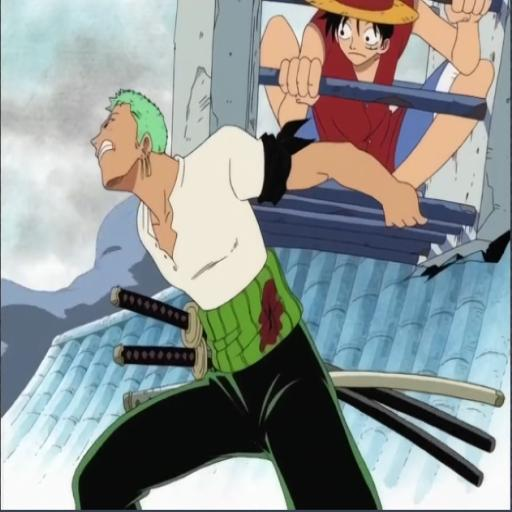Luffy: (263, 0, 505, 248)
Zoro: (62, 76, 350, 512)
